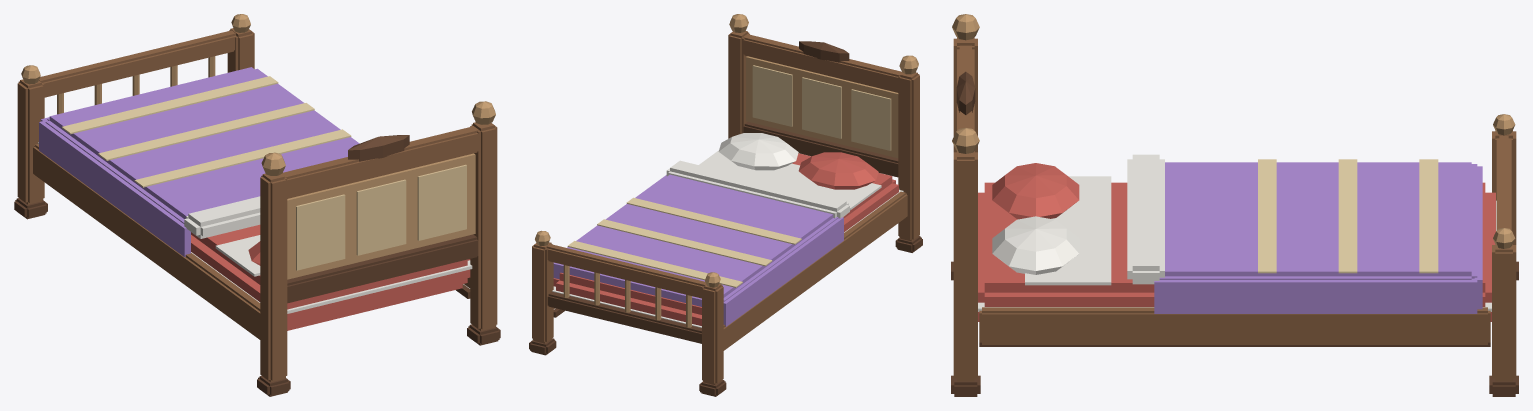
File: deco_furn_bed.obj
3 views of the same model, side by side, from view 1: azimuth 30°, elevation 25°; view 2: azimuth 150°, elevation 25°; view 3: azimuth 270°, elevation 25° (orthographic). The views are drawn at different scales.
Parts seen in each view (by area): view 1: deco_furn_bed; view 2: deco_furn_bed; view 3: deco_furn_bed.
Part boxes in pixels (<box>): deco_furn_bed: <box>14,14,500,396</box>; deco_furn_bed: <box>529,14,922,396</box>; deco_furn_bed: <box>951,14,1518,396</box>.
Bounding box in the file's own units: 1.11 × 1.08 × 2.11.
1 material, 1 textured.
